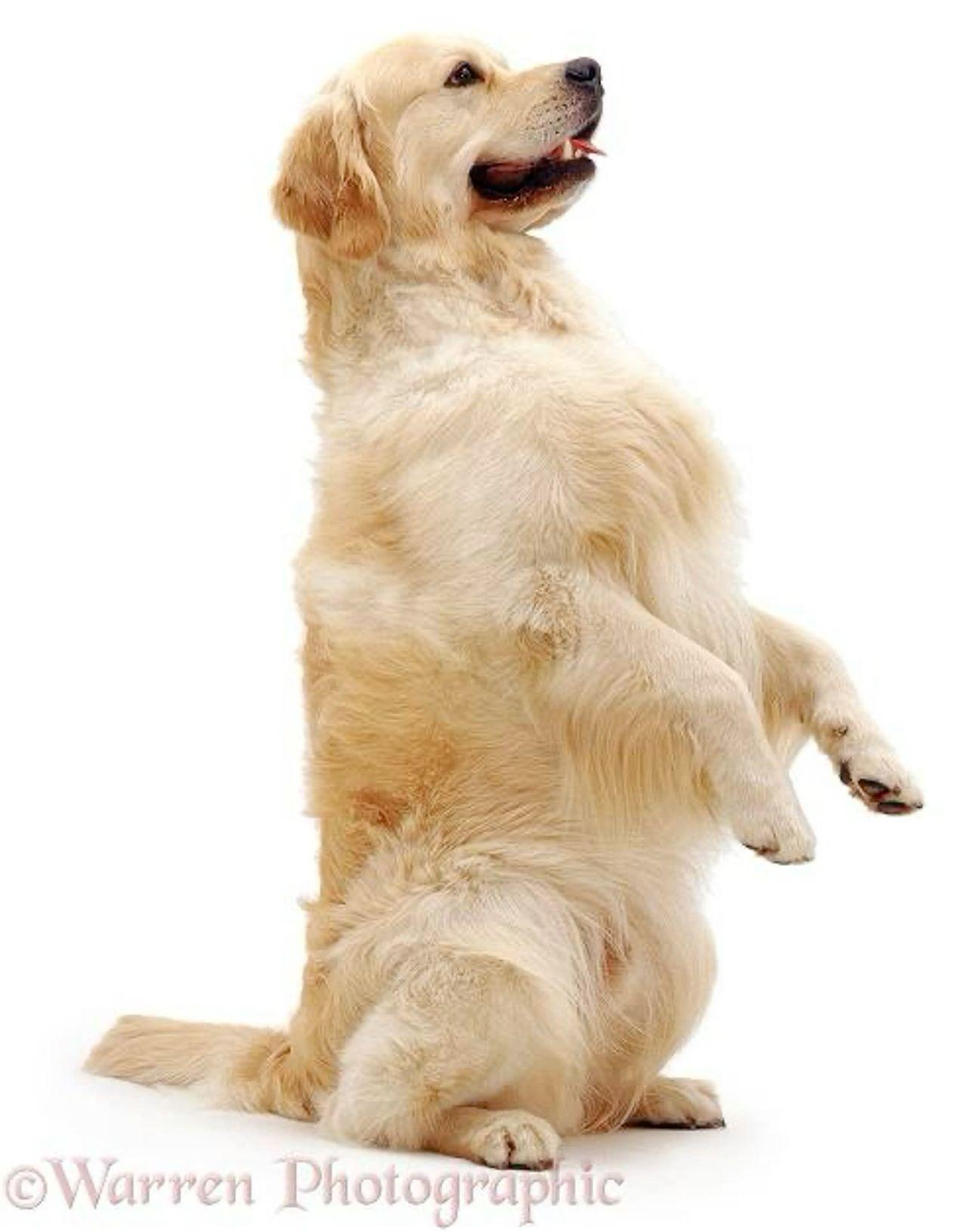adult_dog: (78, 32, 928, 1174)
